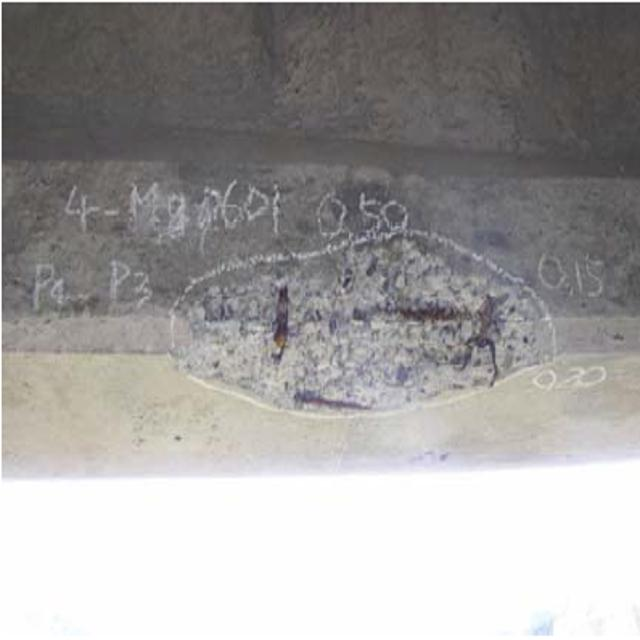spalling: (167, 233, 563, 431)
